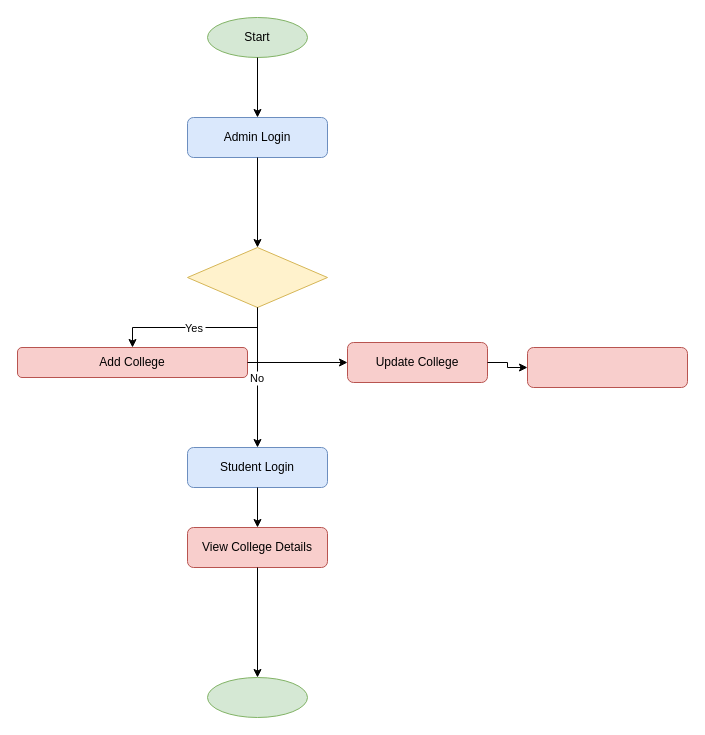
This 705x735 diagram has some shape labels left out. The centre of each missing label's shape, as x and y in pixels:
Delete College: the point at 607,367
End: the point at 257,697
Is Admin Valid?: the point at 257,277
